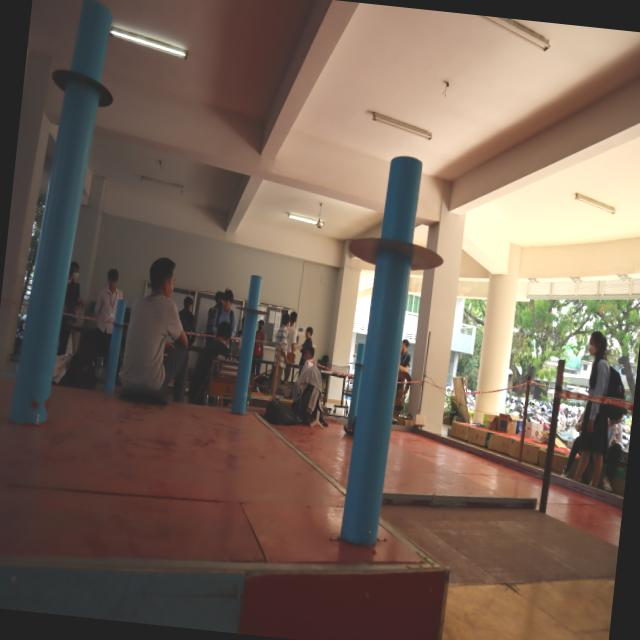pole: (338, 153, 452, 340), (41, 5, 125, 158), (231, 273, 273, 341)
